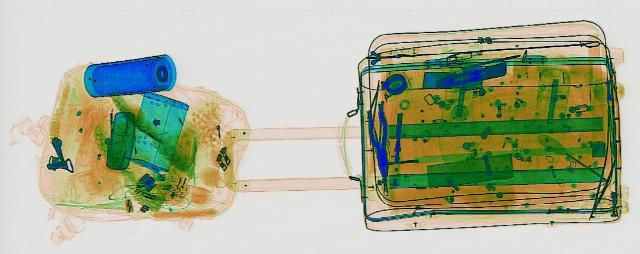Pliers: (362, 102, 394, 176)
